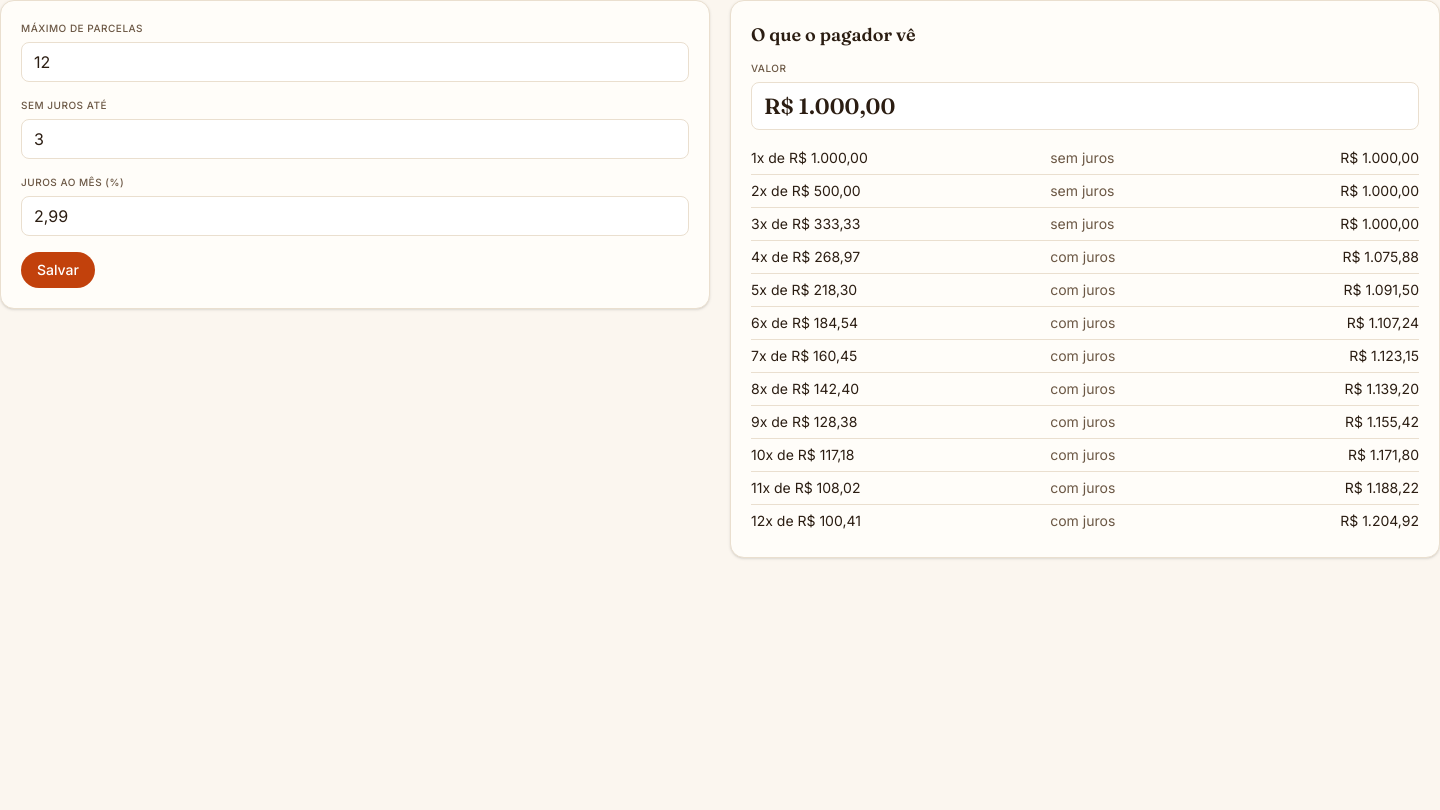
Test: InstallmentSettingsForm › aGatewayValidationErrorLandsAtTheTop
This screenshot has width=1440, height=810.
Expected: the number field labelled "Máximo de parcelas" is shown, [21,42,689,82]
Click the button "Salvar".
click(58, 270)  # box [21,252,95,288]
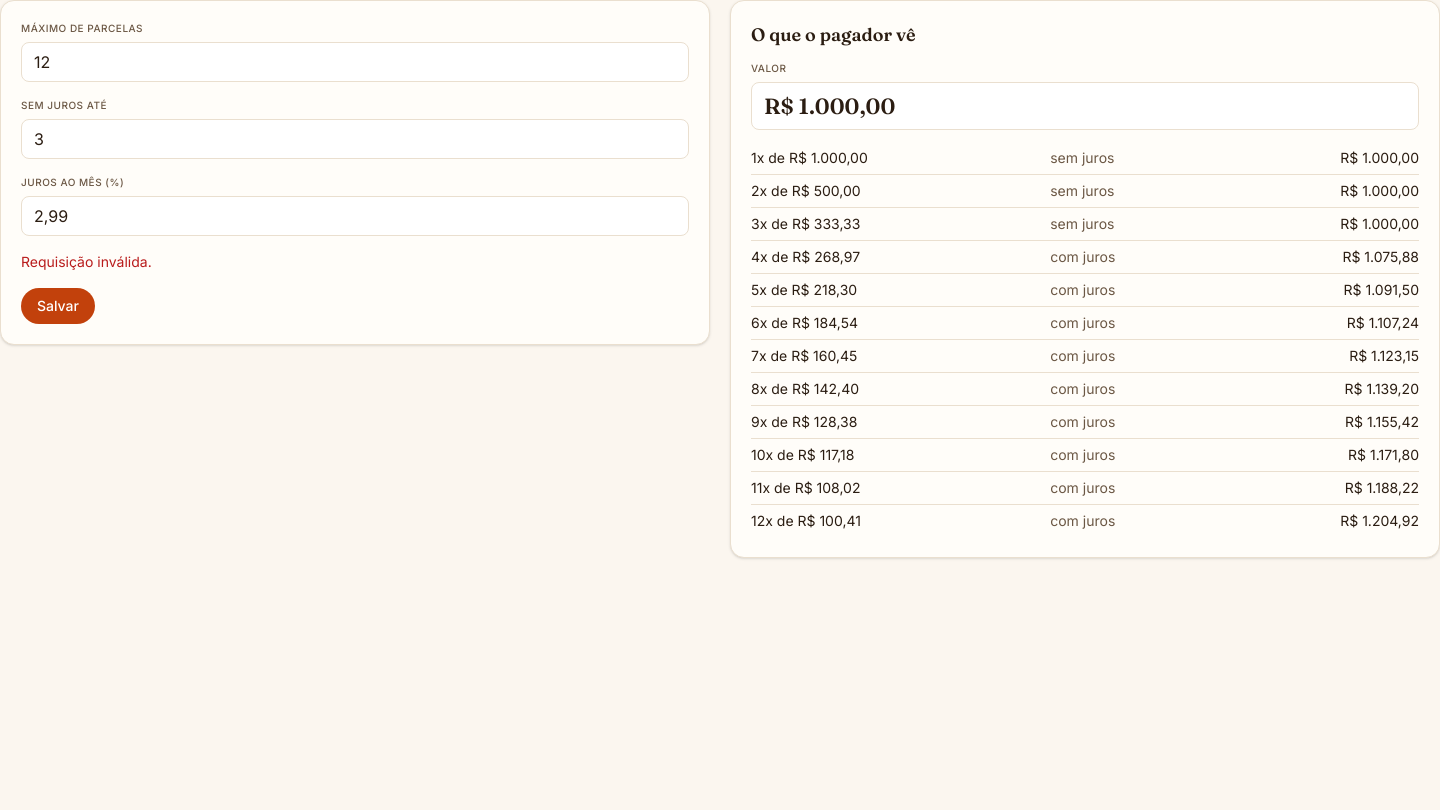
Result: the message reads "Requisição inválida." at [21,253,152,270]
